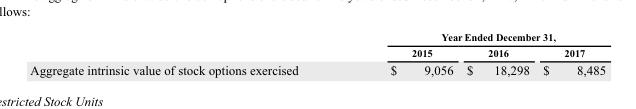table: (29, 29, 605, 78)
table column: (29, 29, 343, 78), (343, 29, 459, 78), (459, 29, 535, 78), (535, 29, 605, 78)
table column header: (29, 29, 605, 59)
table row: (29, 59, 605, 78), (29, 29, 605, 44), (29, 44, 605, 59)
table spanning cell: (343, 29, 605, 44)
